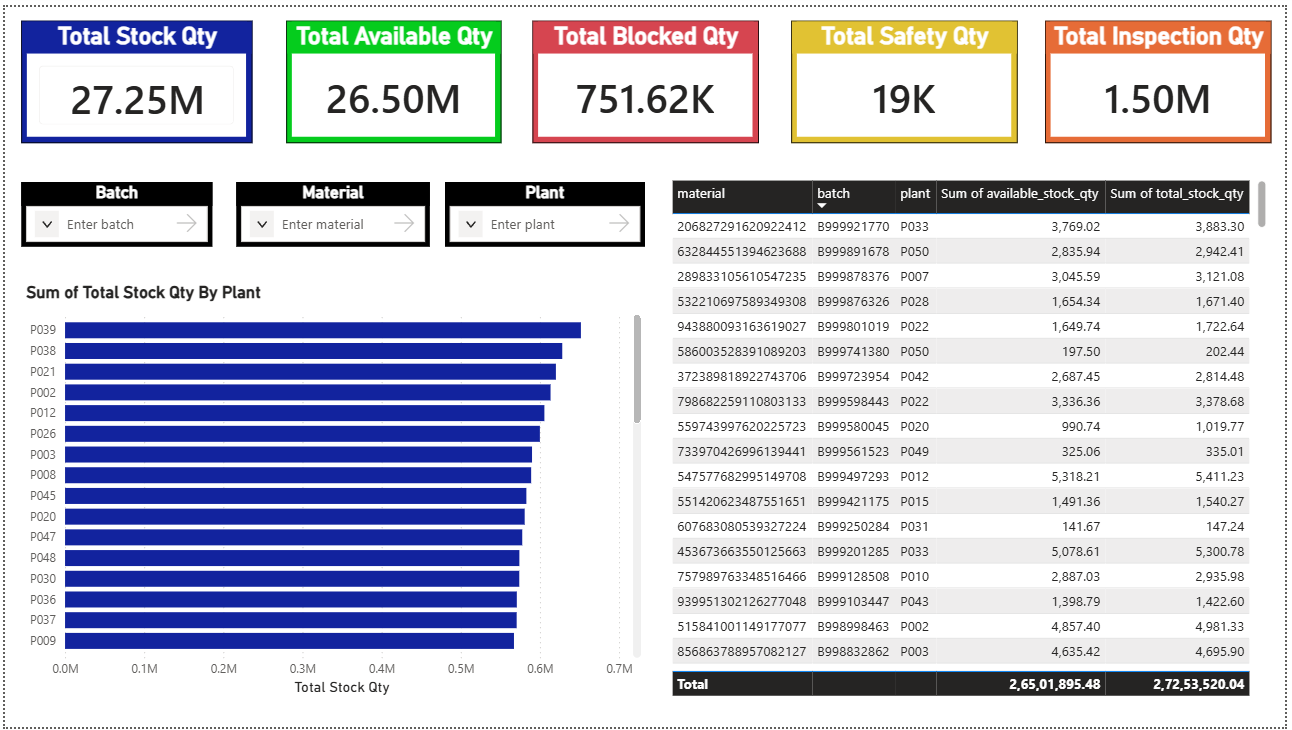

What the dashboard file says about the page in this screenshot:
{"tool":"powerbi","page":{"name":"Inventory Overview","canvas":[1280,720],"ordinal":1},"visuals":[{"type":"cardVisual","title":"Total Stock Qty","fields":{"Data":["fact_inventory.total_stock"]},"box":[16.2,13.8,231.2,122.5],"z":0},{"type":"cardVisual","title":"Total Available Qty","fields":{"Data":["fact_inventory.available_stock"]},"box":[281.2,13.8,215,122.5],"z":1000},{"type":"cardVisual","title":"Total Blocked Qty","fields":{"Data":["fact_inventory.blocked_stock_qty"]},"box":[527.5,13.8,226.2,122.5],"z":2000},{"type":"cardVisual","title":"Total Inspection Qty","fields":{"Data":["fact_inventory.quality_inspection_stock_qty"]},"box":[1040,13.8,226.2,122.5],"z":3000},{"type":"barChart","title":"Sum of Total Stock Qty By Plant","fields":{"Category":["fact_inventory.plant"],"Y":["Sum(fact_inventory.total_stock_qty)"]},"box":[16.2,275,625,418.8],"z":3001},{"type":"tableEx","fields":{"Values":["fact_inventory.material","fact_inventory.batch","fact_inventory.plant","Sum(fact_inventory.available_stock_qty)","Sum(fact_inventory.total_stock_qty)"]},"box":[661.2,168.8,605,525],"z":3002},{"type":"cardVisual","title":"Total Safety Qty","fields":{"Data":["fact_inventory.safety_stock_qty"]},"box":[786.2,13.8,226.2,122.5],"z":3003},{"type":"textSlicer","title":"Material","fields":{"Values":["fact_inventory.material"]},"box":[231.2,175,193.8,65],"z":3004},{"type":"textSlicer","title":"Plant","fields":{"Values":["fact_inventory.plant"]},"box":[440,175,200,65],"z":3005},{"type":"textSlicer","title":"Batch","fields":{"Values":["fact_inventory.batch"]},"box":[16.2,175,191.2,65],"z":3006}]}

Visuals, with their boxes in screenshot pixels (x1, y1, x2, y2), scaled from the page's 1280x720 canvas onto the 1292x730 screenshot:
"Total Stock Qty" cardVisual: x1=16, y1=14, x2=250, y2=138
"Total Available Qty" cardVisual: x1=284, y1=14, x2=501, y2=138
"Total Blocked Qty" cardVisual: x1=532, y1=14, x2=761, y2=138
"Total Inspection Qty" cardVisual: x1=1050, y1=14, x2=1278, y2=138
"Sum of Total Stock Qty By Plant" barChart: x1=16, y1=279, x2=647, y2=703
tableEx - fact_inventory.material x fact_inventory.batch: x1=667, y1=171, x2=1278, y2=703
"Total Safety Qty" cardVisual: x1=794, y1=14, x2=1022, y2=138
"Material" textSlicer: x1=233, y1=177, x2=429, y2=243
"Plant" textSlicer: x1=444, y1=177, x2=646, y2=243
"Batch" textSlicer: x1=16, y1=177, x2=209, y2=243
